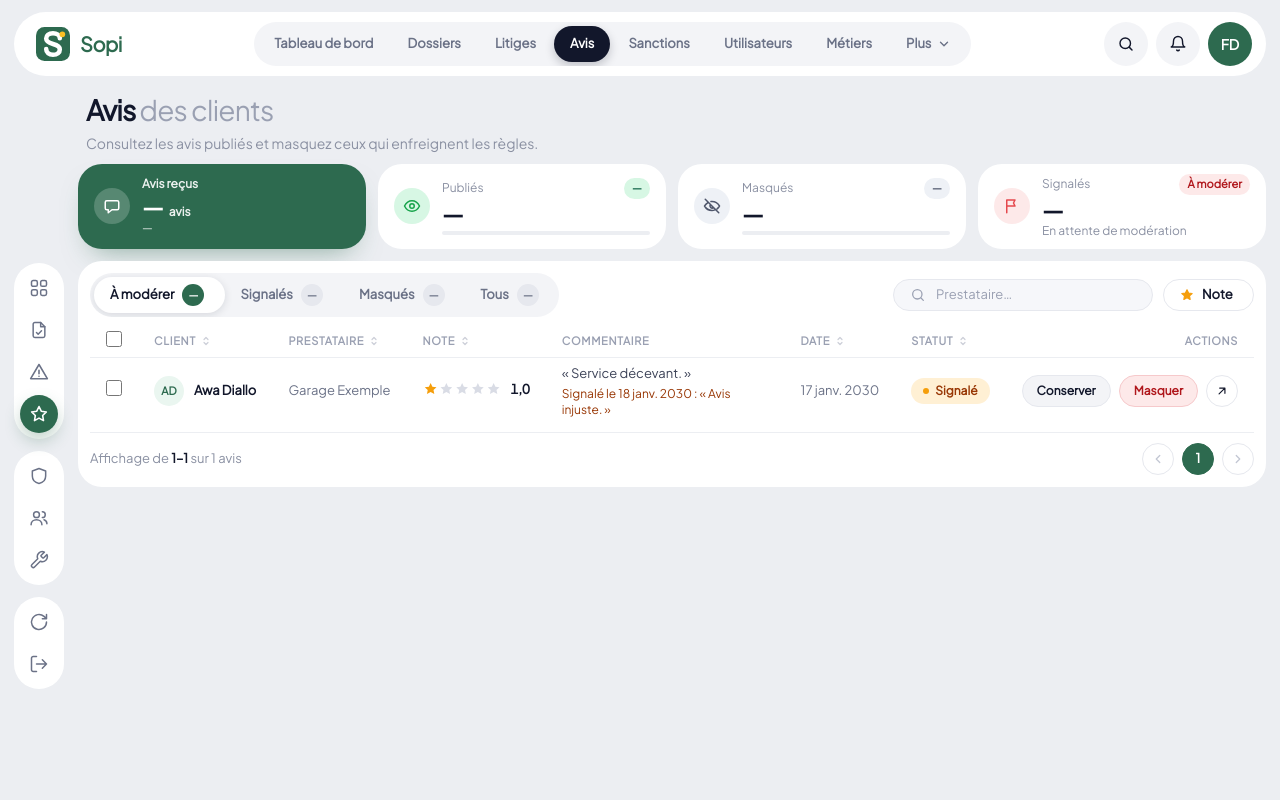
Test: modération des avis › affiche l’erreur 409 du serveur dans la modale
Click the button with aria-label "Masquer l’avis de Awa Diallo" at (1158, 391), box [1119, 375, 1198, 407]
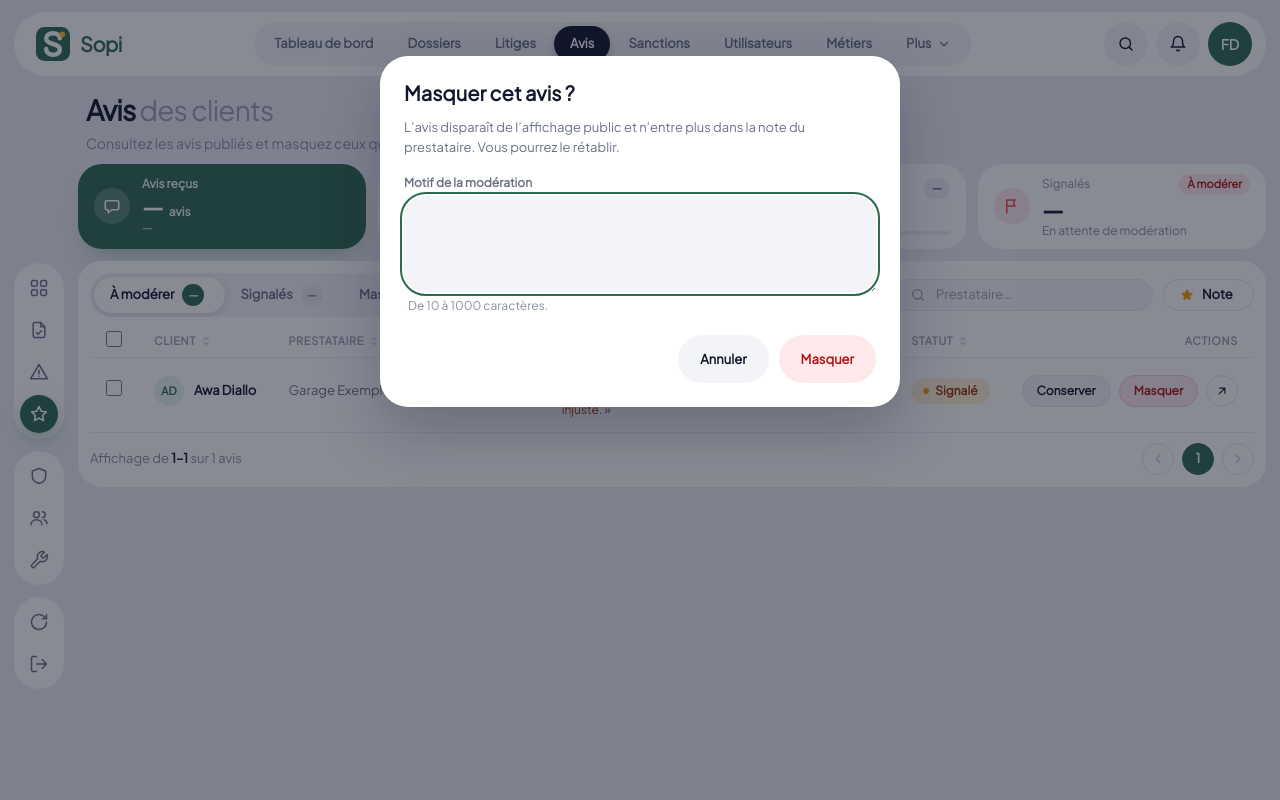
Type "Motif suffisamment long" into the text box labelled "Motif de la modération" at (640, 244), box [404, 196, 876, 292]
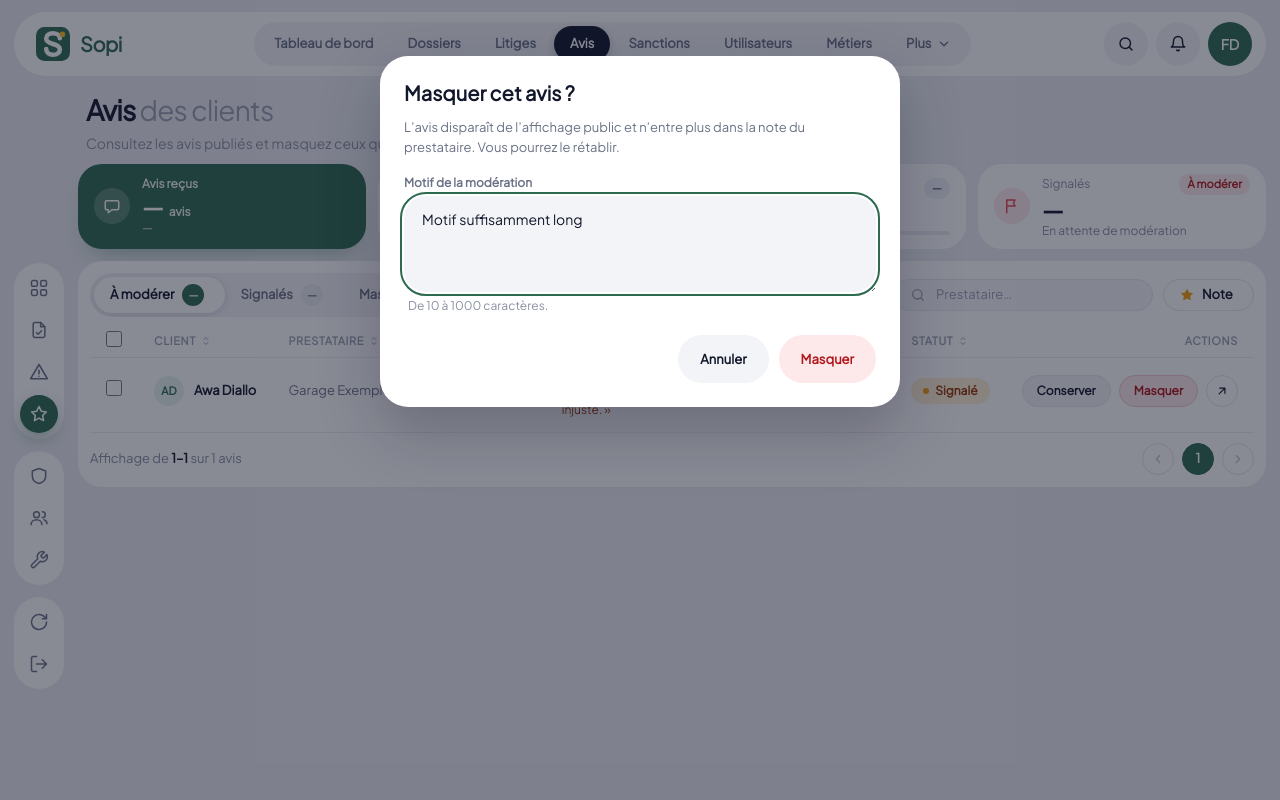
Click the button "Masquer" at (827, 359), box [779, 335, 876, 383]
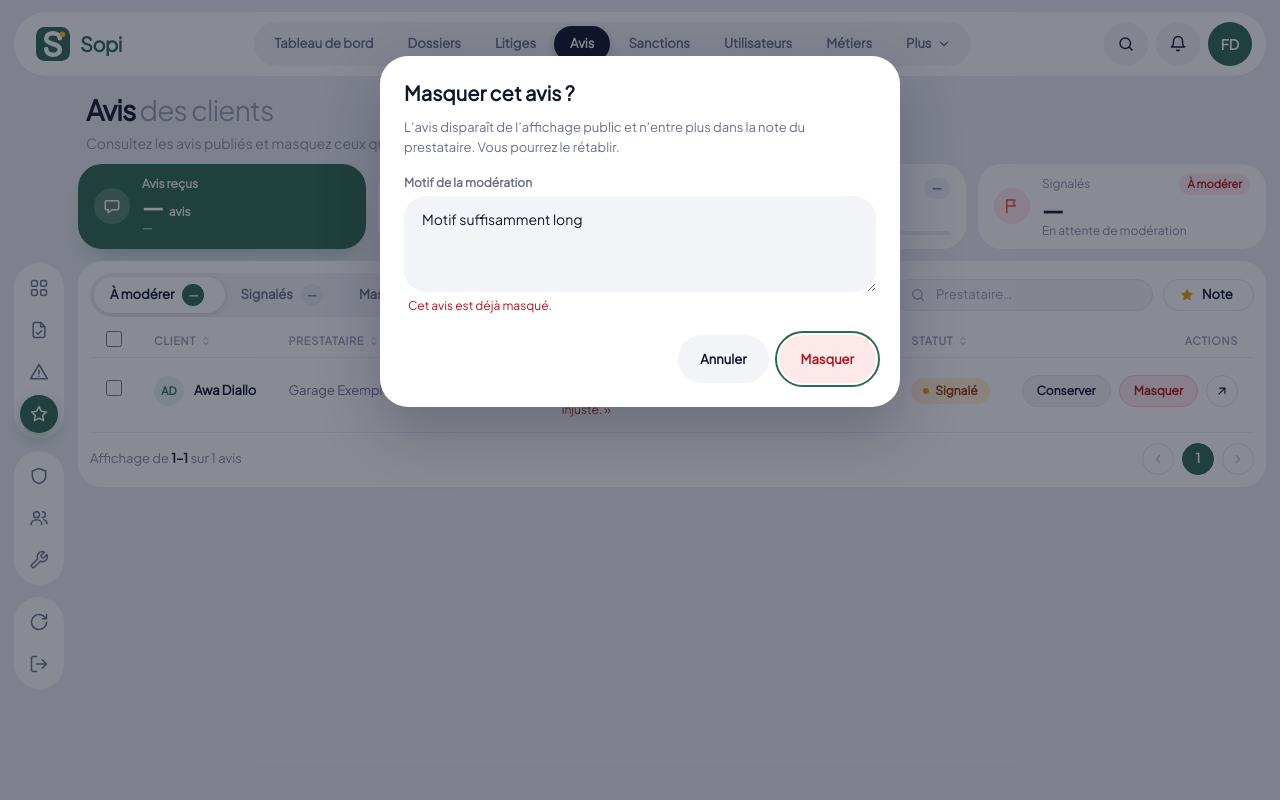
expect the text "Cet avis est déjà masqué." is shown: met, box [408, 298, 552, 313]
